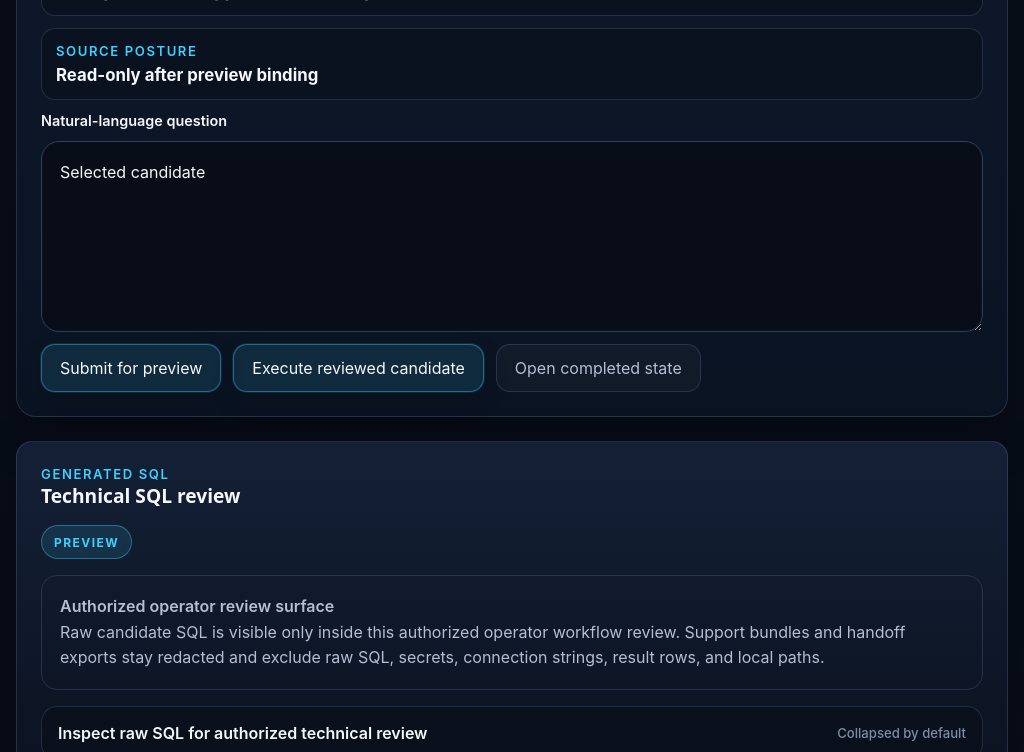
Scenario: HomePage › renders successful execute response rows and audit context without sensitive extras
This screenshot has width=1024, height=752.
(page scrolled)
Click the button "Execute reviewed candidate": (359, 368) [233, 344, 484, 392]
(page scrolled)
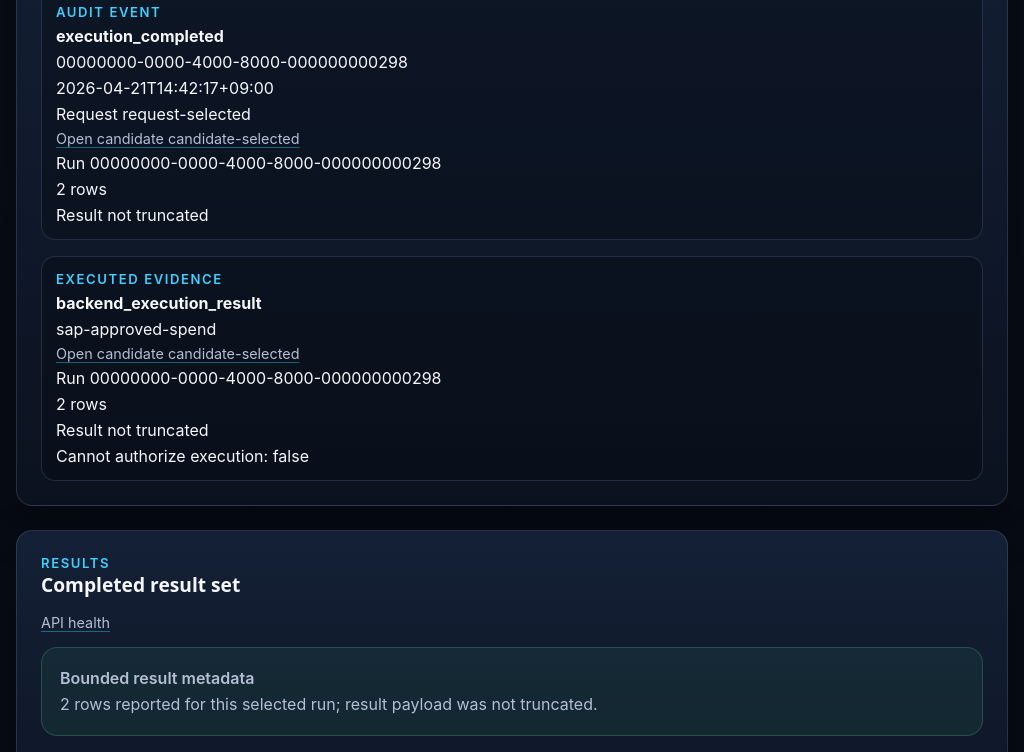
Expected: the text "2 rows reported for this selected run" is shown, [60, 694, 598, 714]
Expected: the element named "audit lifecycle events" shows "execution_completed", [56, 26, 224, 46]
Expected: the element named "audit lifecycle events" shows "00000000-0000-4000-8000-000000000298", [56, 52, 408, 72]
